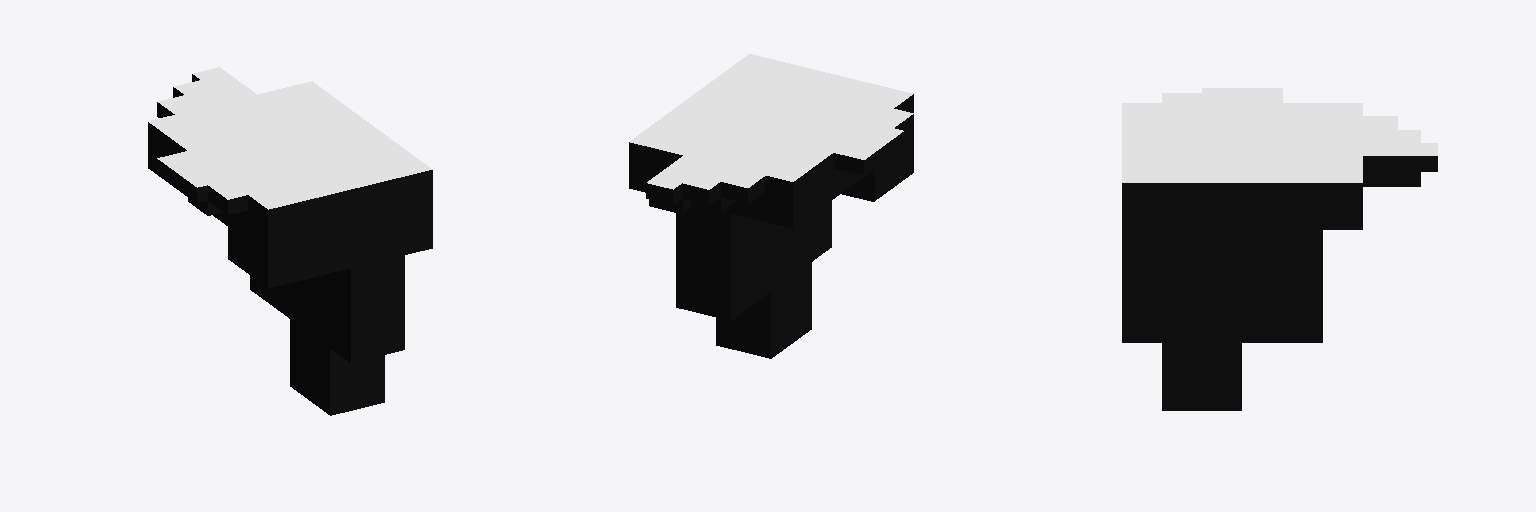
The model's file is floatingIsland4.obj.
The picture shows the model from 3 angles: view 1: azimuth 30°, elevation 25°; view 2: azimuth 150°, elevation 25°; view 3: azimuth 270°, elevation 25°; orthographic projection.
Parts seen in each view (by area): view 1: Cube.003_Cube.005; view 2: Cube.003_Cube.005; view 3: Cube.003_Cube.005.
Boxes of the visible parts, x1,y1,x2,y2 form: Cube.003_Cube.005: [148, 67, 432, 415]; Cube.003_Cube.005: [629, 54, 913, 358]; Cube.003_Cube.005: [1122, 88, 1437, 410].
Bounding box in the file's own units: 4.73 × 5.58 × 6.64.